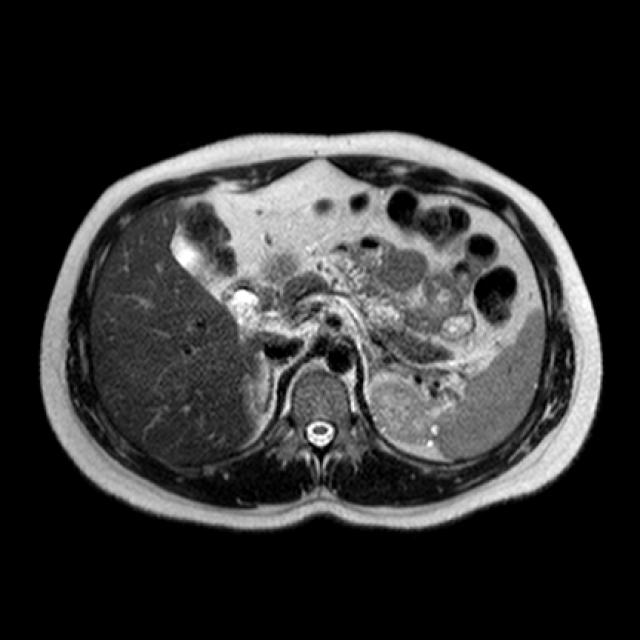sol: (370, 379, 439, 448)
